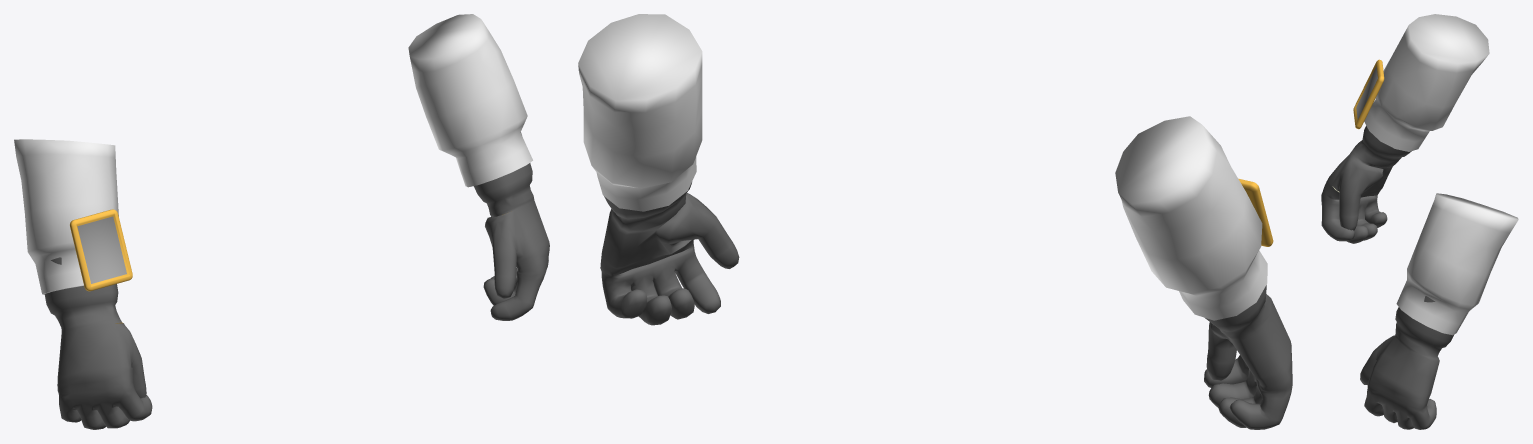
Rendered from suit arms.fbx.
3 views of the same model, side by side, from view 1: azimuth 30°, elevation 25°; view 2: azimuth 150°, elevation 25°; view 3: azimuth 270°, elevation 25° (orthographic). The views are drawn at different scales.
Visible parts, largest first — view 1: arm right, arm left; view 2: arm left, arm right; view 3: arm left, arm right.
Boxes of the visible parts, x1,y1,x2,y2 form: arm right: (14,139,152,429); arm left: (408,14,549,320); arm left: (578,14,739,325); arm right: (1115,116,1292,429); arm left: (1360,193,1518,429); arm right: (1321,14,1489,243).
Size of the model in its own units: 83.45 by 41.23 by 32.5.
